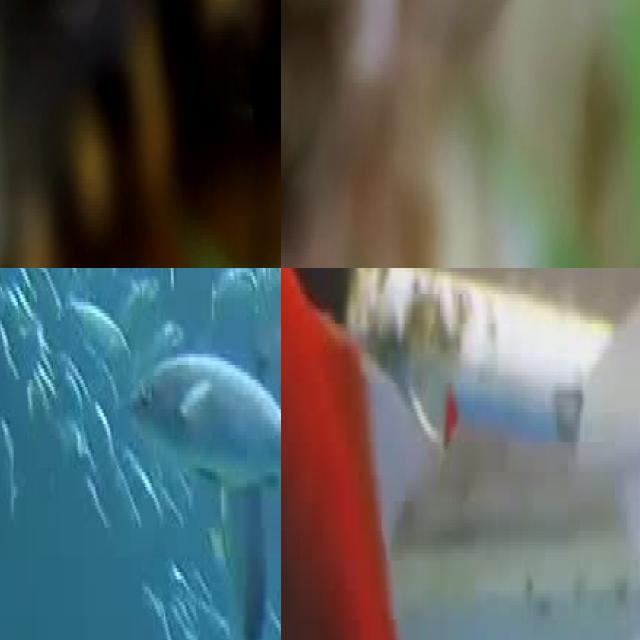fish: (0, 0, 281, 268), (322, 505, 640, 640)
